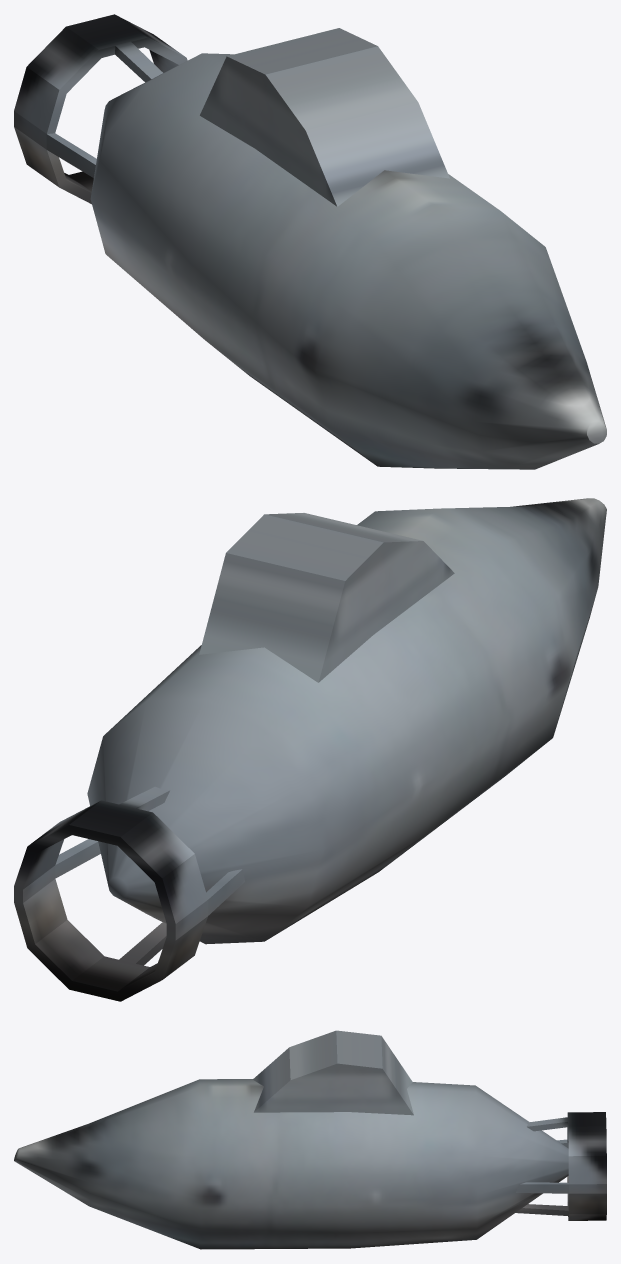
The model's file is main_submarine.glb.
3 renders of one model, top to bottom at view 1: azimuth 30°, elevation 25°; view 2: azimuth 150°, elevation 25°; view 3: azimuth 270°, elevation 25°, orthographic. The views are drawn at different scales.
Parts seen in each view (by area): view 1: submarine_big; view 2: submarine_big; view 3: submarine_big.
Boxes of the visible parts, left/top/right/bottom form: submarine_big: left=14, top=14, right=606, bottom=469; submarine_big: left=14, top=498, right=606, bottom=1001; submarine_big: left=14, top=1030, right=606, bottom=1249.
Size of the model in its own units: 2.17 by 2.68 by 7.42.
1 material, 1 textured.
